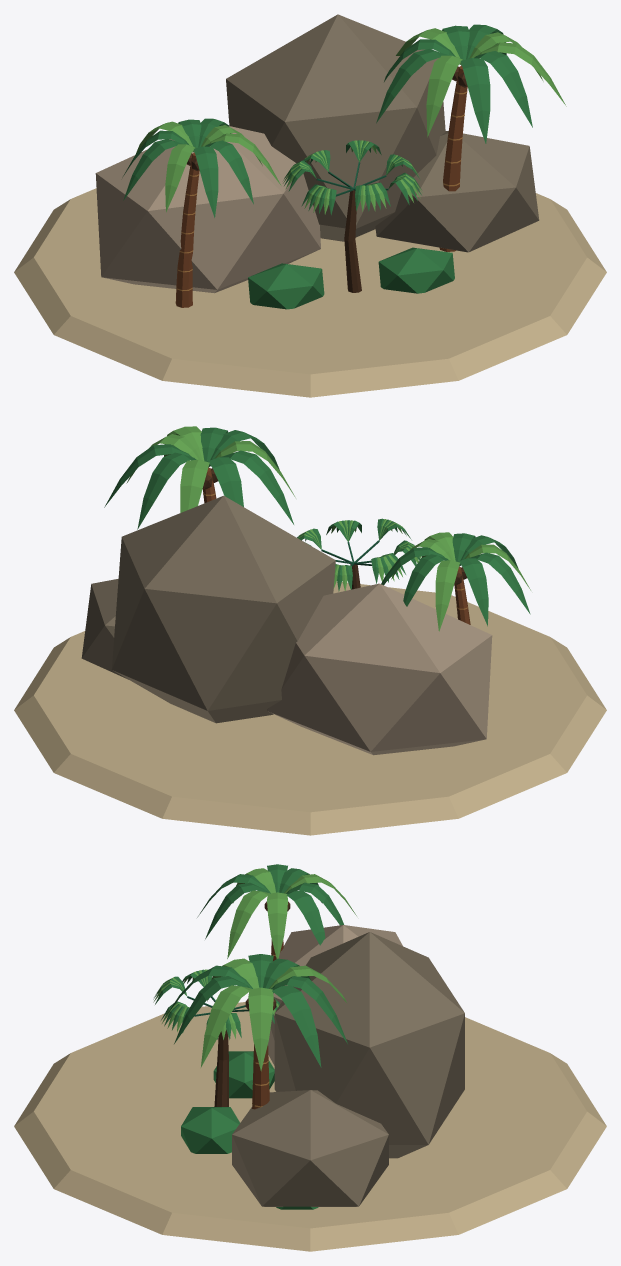
File: Tropical_IslandBackdrop_Standard.glb
3 views of the same model, one above another, from view 1: azimuth 30°, elevation 25°; view 2: azimuth 150°, elevation 25°; view 3: azimuth 270°, elevation 25° (orthographic).
Visible parts, largest first — view 1: Tropical_IslandBackdrop_Standard; view 2: Tropical_IslandBackdrop_Standard; view 3: Tropical_IslandBackdrop_Standard.
Boxes of the visible parts, left/top/right/bottom form: Tropical_IslandBackdrop_Standard: left=14, top=14, right=606, bottom=397; Tropical_IslandBackdrop_Standard: left=14, top=426, right=606, bottom=835; Tropical_IslandBackdrop_Standard: left=14, top=864, right=606, bottom=1251.
Bounding box in the file's own units: 18 × 8.1 × 18.
